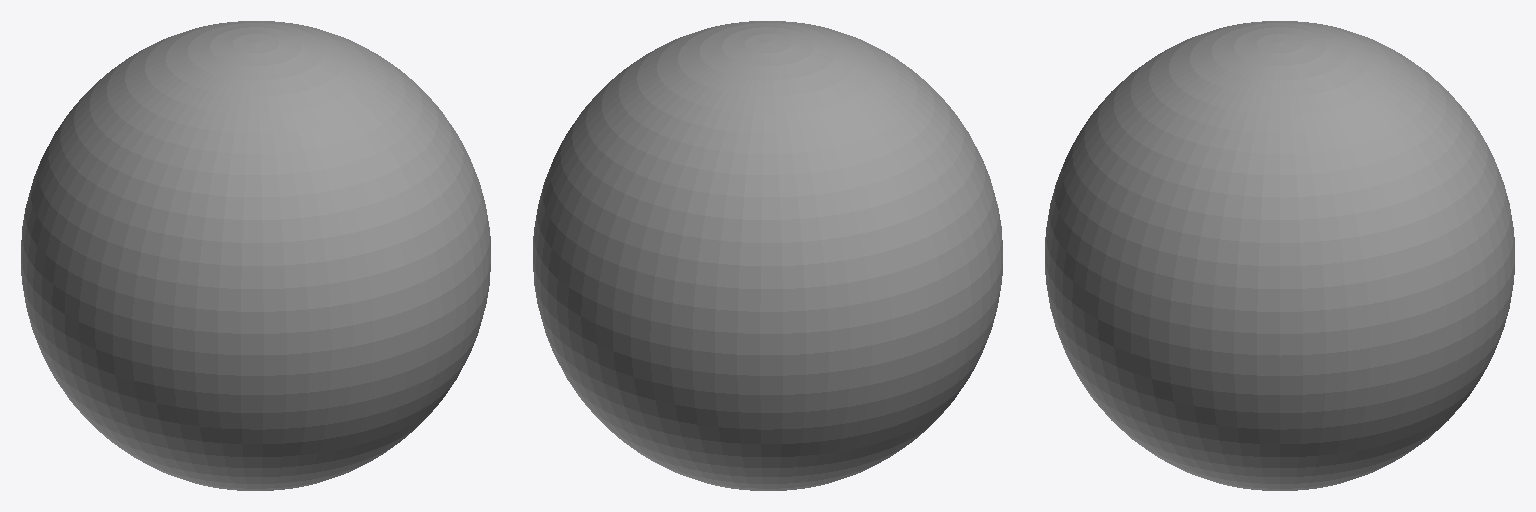
Rendered from mars.obj.
The picture shows the model from 3 angles: view 1: azimuth 30°, elevation 25°; view 2: azimuth 150°, elevation 25°; view 3: azimuth 270°, elevation 25°; orthographic projection.
Parts seen in each view (by area): view 1: Sphere; view 2: Sphere; view 3: Sphere.
Boxes of the visible parts, x1=… form: Sphere: x1=21, y1=21, x2=490, y2=490; Sphere: x1=533, y1=21, x2=1002, y2=490; Sphere: x1=1045, y1=21, x2=1514, y2=490.
Bounding box in the file's own units: 6.78 × 6.78 × 6.78.